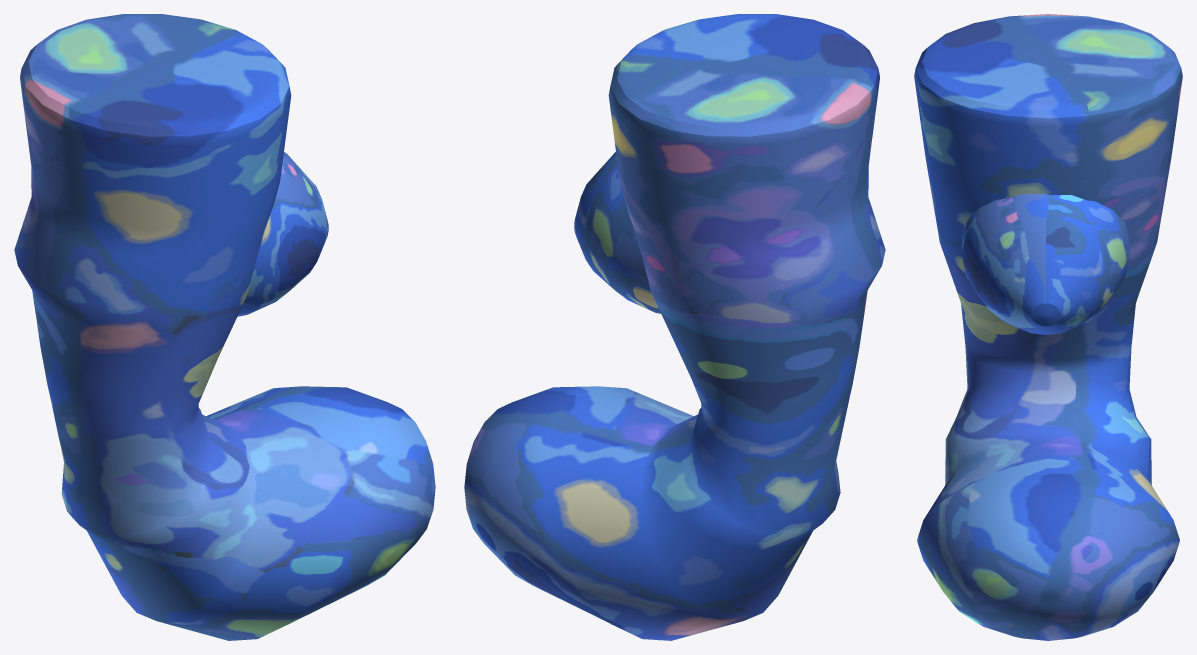
File: tiaotai03.fbx
3 renders of one model, left to right at view 1: azimuth 30°, elevation 25°; view 2: azimuth 150°, elevation 25°; view 3: azimuth 270°, elevation 25°, orthographic. The views are drawn at different scales.
Parts seen in each view (by area): view 1: pCylinder5, pCylinder6; view 2: pCylinder5, pCylinder6; view 3: pCylinder5, pCylinder6.
Boxes of the visible parts, x1,y1,x2,y2 form: pCylinder5: [14, 14, 435, 640]; pCylinder6: [237, 152, 328, 316]; pCylinder5: [464, 14, 885, 640]; pCylinder6: [574, 152, 660, 313]; pCylinder5: [914, 14, 1182, 640]; pCylinder6: [962, 194, 1129, 334].
Size of the model in its own units: 1.72 by 2.44 by 1.13.
